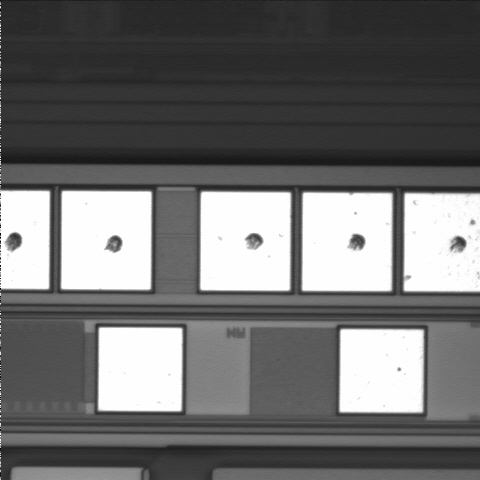pad: (200, 192, 291, 291), (61, 191, 151, 290), (302, 193, 392, 291), (98, 328, 182, 411), (340, 329, 423, 412)
